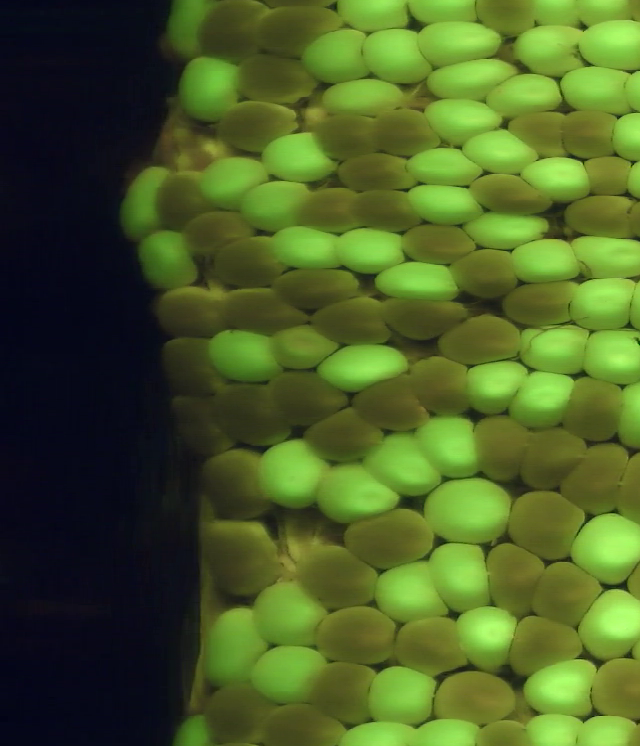fluorescent: (416, 473, 518, 549), (194, 601, 278, 691), (250, 432, 341, 515), (310, 458, 409, 530), (370, 554, 457, 632), (247, 577, 334, 654), (305, 337, 418, 396), (359, 425, 449, 498), (420, 536, 498, 619), (564, 510, 640, 588), (109, 163, 178, 246), (360, 661, 441, 731), (353, 21, 435, 90), (451, 600, 524, 676), (292, 25, 377, 90), (572, 586, 640, 667), (249, 639, 330, 707), (518, 655, 604, 719), (512, 317, 595, 383), (200, 325, 288, 387), (173, 49, 241, 129), (508, 18, 591, 83), (409, 17, 508, 71), (455, 354, 538, 418), (131, 225, 205, 296), (411, 409, 482, 483), (234, 176, 323, 235), (257, 125, 343, 186), (420, 54, 522, 105), (559, 272, 640, 336), (503, 367, 577, 435), (195, 151, 270, 218), (368, 257, 470, 306), (420, 92, 508, 148), (554, 62, 637, 120), (330, 223, 415, 279), (456, 206, 555, 254), (480, 69, 567, 122), (462, 125, 544, 180), (316, 73, 408, 122), (263, 320, 343, 376), (267, 223, 354, 274), (515, 151, 596, 205), (399, 181, 489, 229), (506, 232, 584, 287), (564, 231, 640, 285), (403, 142, 488, 190), (572, 17, 640, 75), (580, 326, 640, 391), (163, 1, 221, 63), (329, 1, 413, 35), (518, 708, 588, 746), (567, 710, 638, 746), (400, 1, 482, 32), (607, 376, 640, 453), (605, 108, 640, 167)
nonfluorescent: (192, 518, 285, 599), (341, 501, 442, 575), (290, 541, 386, 614), (504, 485, 591, 565), (499, 609, 588, 684), (194, 445, 277, 525), (390, 609, 476, 684), (312, 600, 400, 673), (527, 554, 608, 633), (207, 380, 291, 456), (248, 1, 350, 63), (513, 421, 594, 499), (429, 666, 524, 732), (373, 288, 476, 347), (296, 402, 387, 468), (480, 537, 551, 621), (259, 368, 355, 429), (430, 310, 527, 370), (301, 656, 379, 730), (214, 282, 317, 338), (346, 369, 432, 436), (197, 681, 284, 746), (158, 392, 236, 464), (554, 436, 619, 522), (151, 166, 227, 239), (231, 49, 323, 109), (192, 1, 274, 66), (303, 294, 399, 349), (559, 371, 625, 451), (214, 96, 299, 158), (147, 284, 229, 347), (461, 168, 557, 221), (497, 275, 584, 333), (153, 332, 228, 399), (402, 353, 474, 422), (364, 104, 448, 163), (392, 217, 487, 268), (251, 700, 355, 746), (174, 204, 259, 260), (443, 242, 520, 302), (469, 409, 526, 488), (306, 108, 387, 163), (286, 182, 367, 237), (212, 229, 286, 289), (559, 102, 627, 165), (266, 263, 362, 307), (560, 192, 640, 244), (334, 148, 420, 196), (346, 182, 420, 237), (586, 651, 640, 725), (501, 107, 573, 162), (573, 151, 637, 201), (465, 1, 542, 39), (609, 444, 640, 533)
